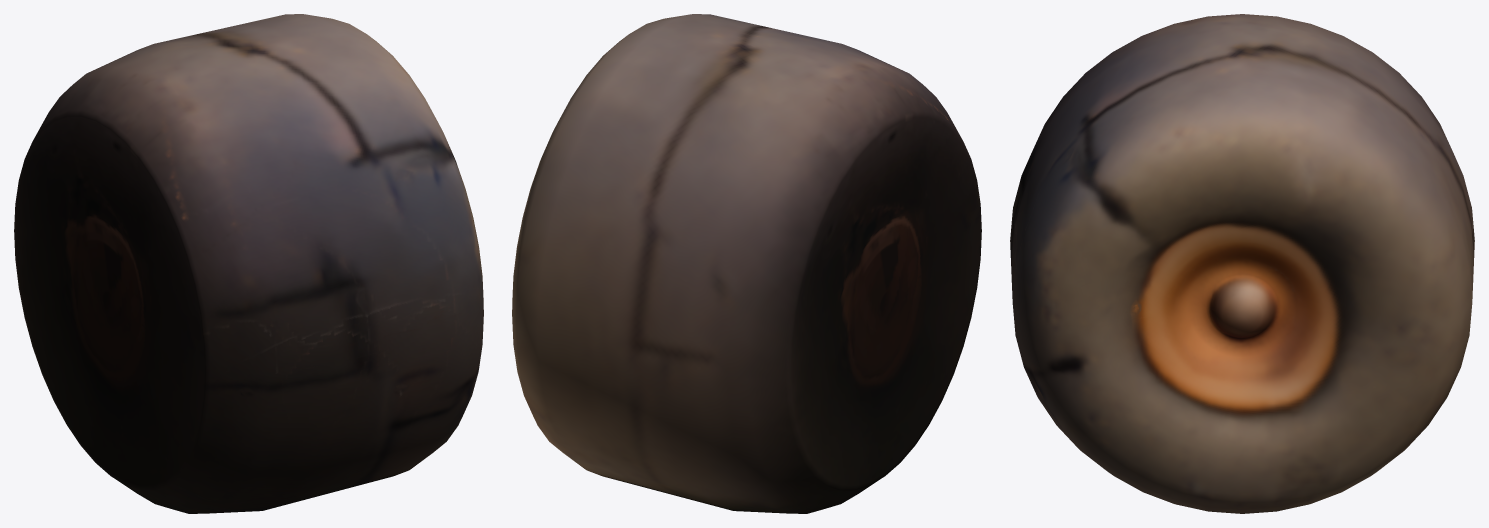
3 views of the same model, side by side, from view 1: azimuth 30°, elevation 25°; view 2: azimuth 150°, elevation 25°; view 3: azimuth 270°, elevation 25° (orthographic). The views are drawn at different scales.
Parts seen in each view (by area): view 1: wheel_RL; view 2: wheel_RL; view 3: wheel_RL.
Part boxes in pixels (left/top/right/bottom): wheel_RL: left=14, top=14, right=483, bottom=513; wheel_RL: left=512, top=14, right=981, bottom=513; wheel_RL: left=1010, top=14, right=1474, bottom=513.
Bounding box in the file's own units: 0.2466 × 0.366 × 0.366.
1 material, 1 textured.
